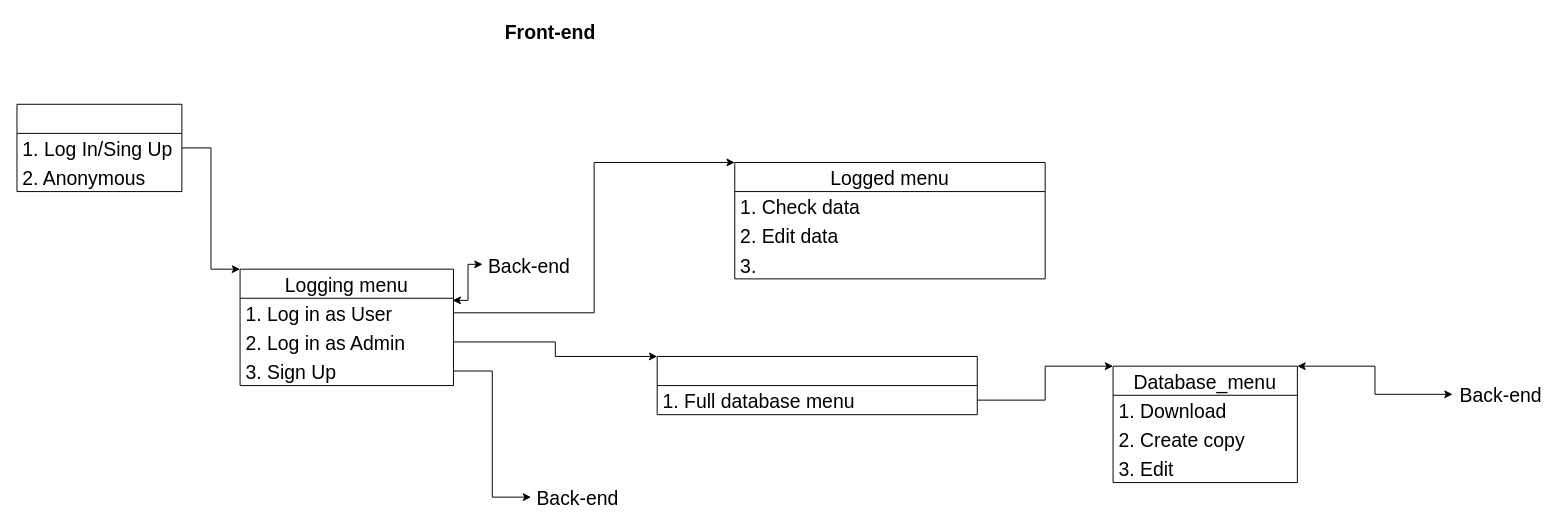
Some shapes in this 1567 by 528 pixel diagram are drawn without their labels. The shapes that lost their labels are listed below. From the top down, each one's box as (x1, y1, x2, y2) in pixels, then its label:
(16, 103, 182, 192): Main_menu
(656, 356, 977, 415): Admin Tools
